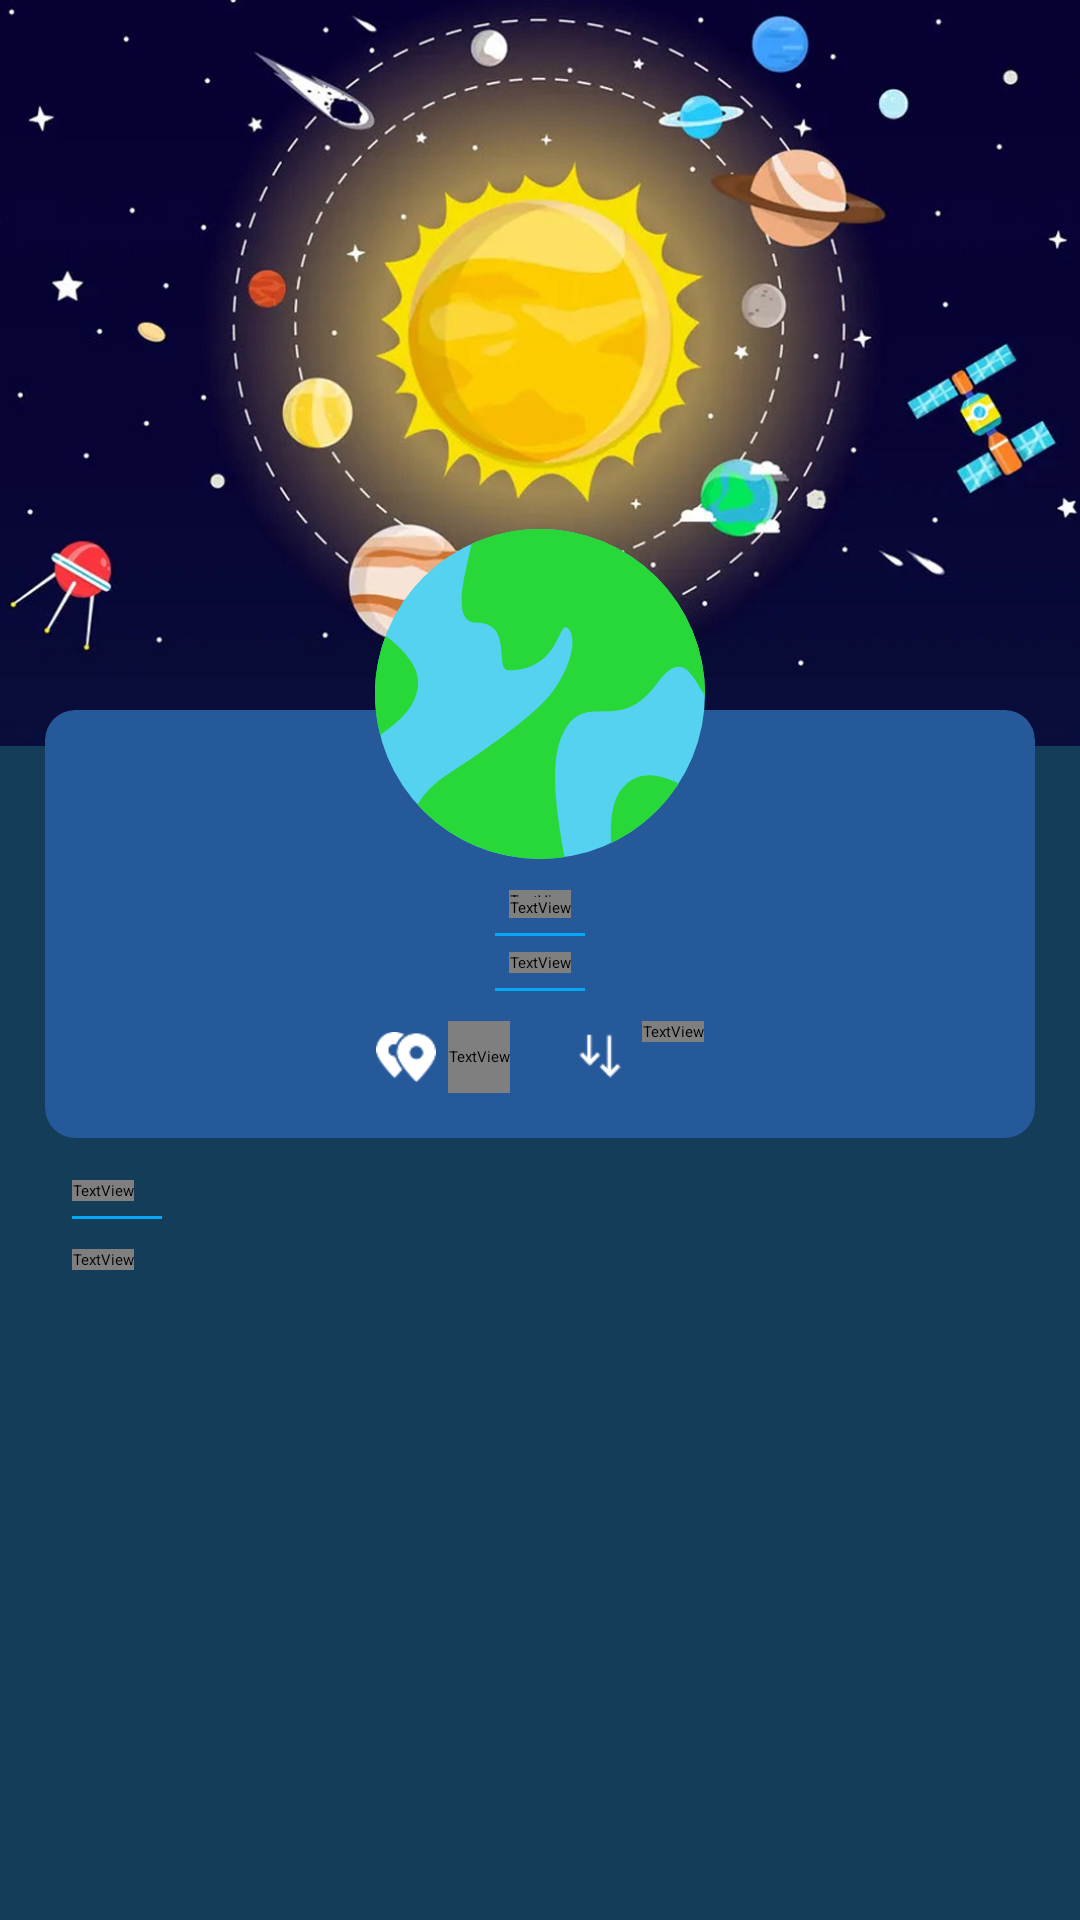

Where to tap for icons on this 1080px x 1920px app screen, as (x=x, y=y):
distance: (x=406, y=1057)
earth: (x=540, y=694)
gravity: (x=600, y=1056)
